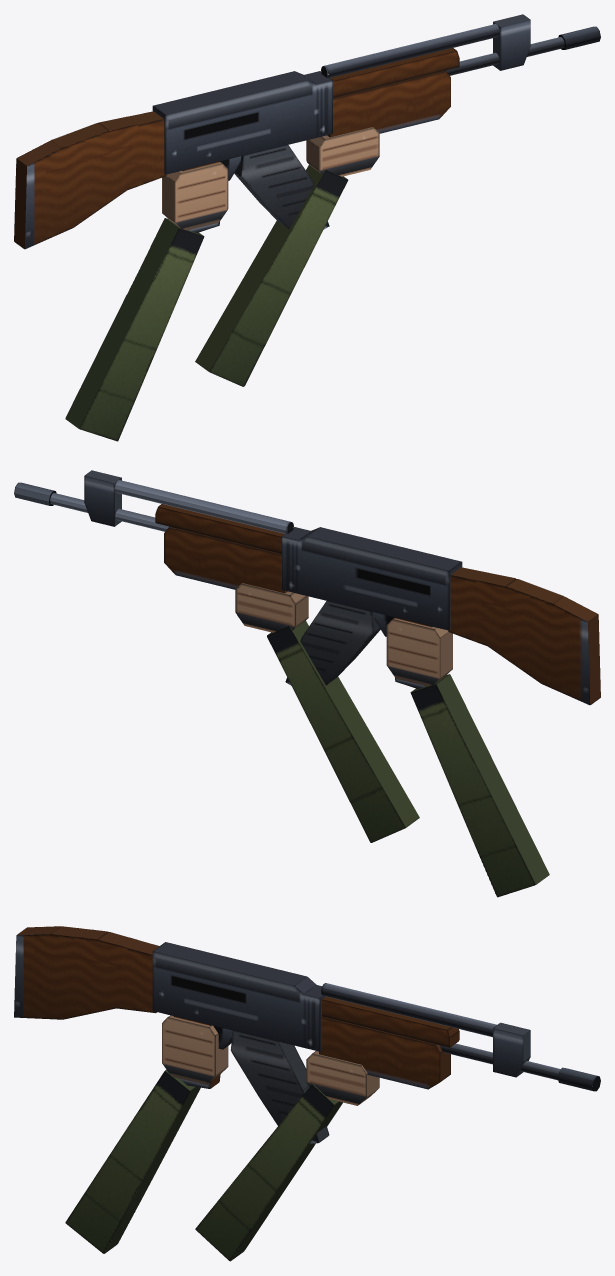
The picture shows the model from 3 angles, top to bottom: view 1: azimuth 30°, elevation 25°; view 2: azimuth 150°, elevation 25°; view 3: azimuth 330°, elevation 25°; orthographic projection.
Size of the model in its own units: 49.6 by 26.1 by 2.1.
1 material, 1 textured.
